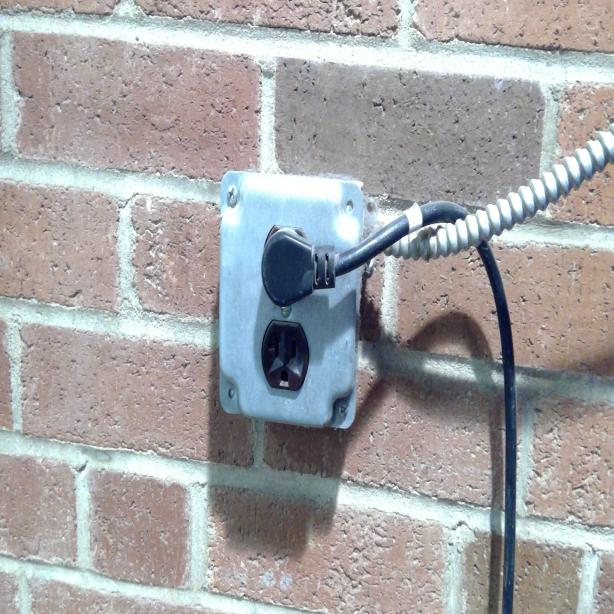typeb: (264, 322, 306, 392)
